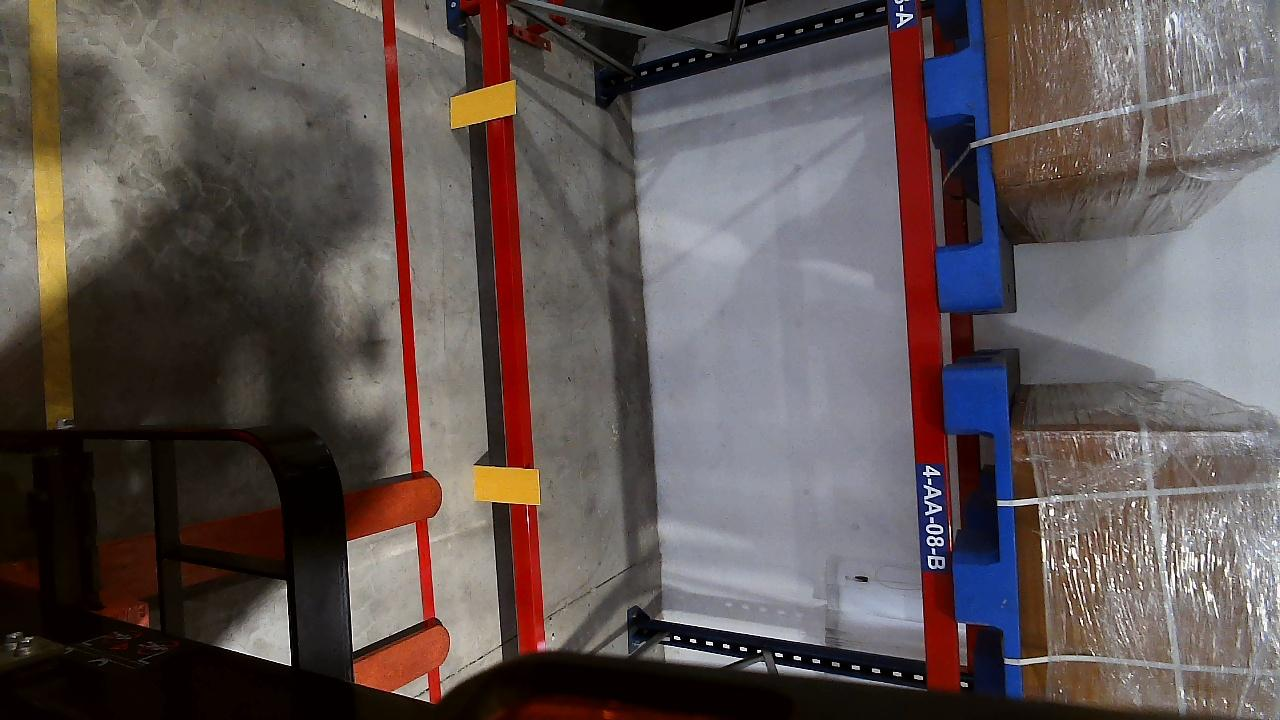h_rack: (880, 0, 954, 687), (479, 4, 542, 647)
orange_strip: (448, 80, 516, 128), (472, 464, 539, 505)
red_line: (380, 0, 448, 619)
small_pallet: (917, 0, 1007, 305), (942, 371, 1027, 690)
yellow_line: (27, 0, 70, 425)
